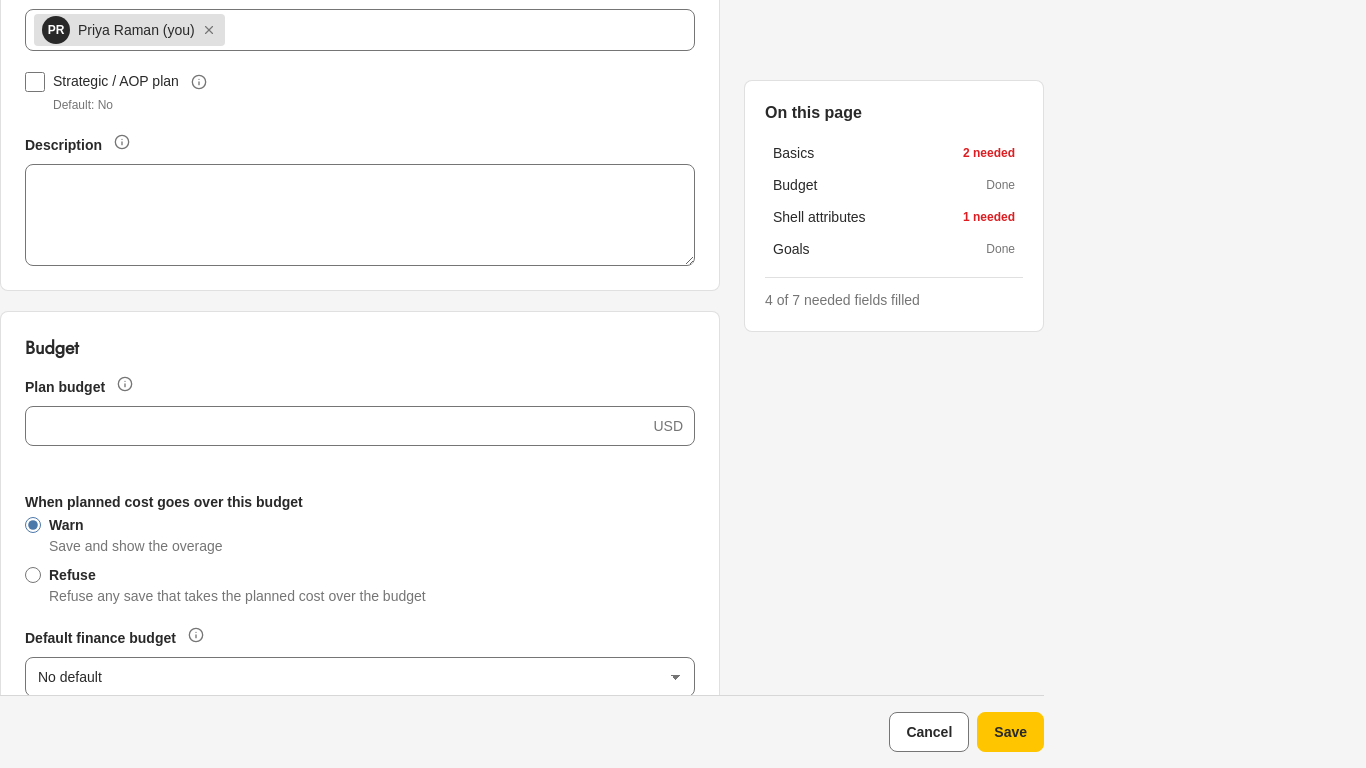
Test: 016 FR-047: the plan screens show the Field help of every labelled field › gives each field of the plan form one ⓘ, and none for an emptied text
This screenshot has width=1366, height=768.
(page scrolled)
Click the button named "About Plan budget".
click(125, 384)  # box [113, 372, 137, 396]
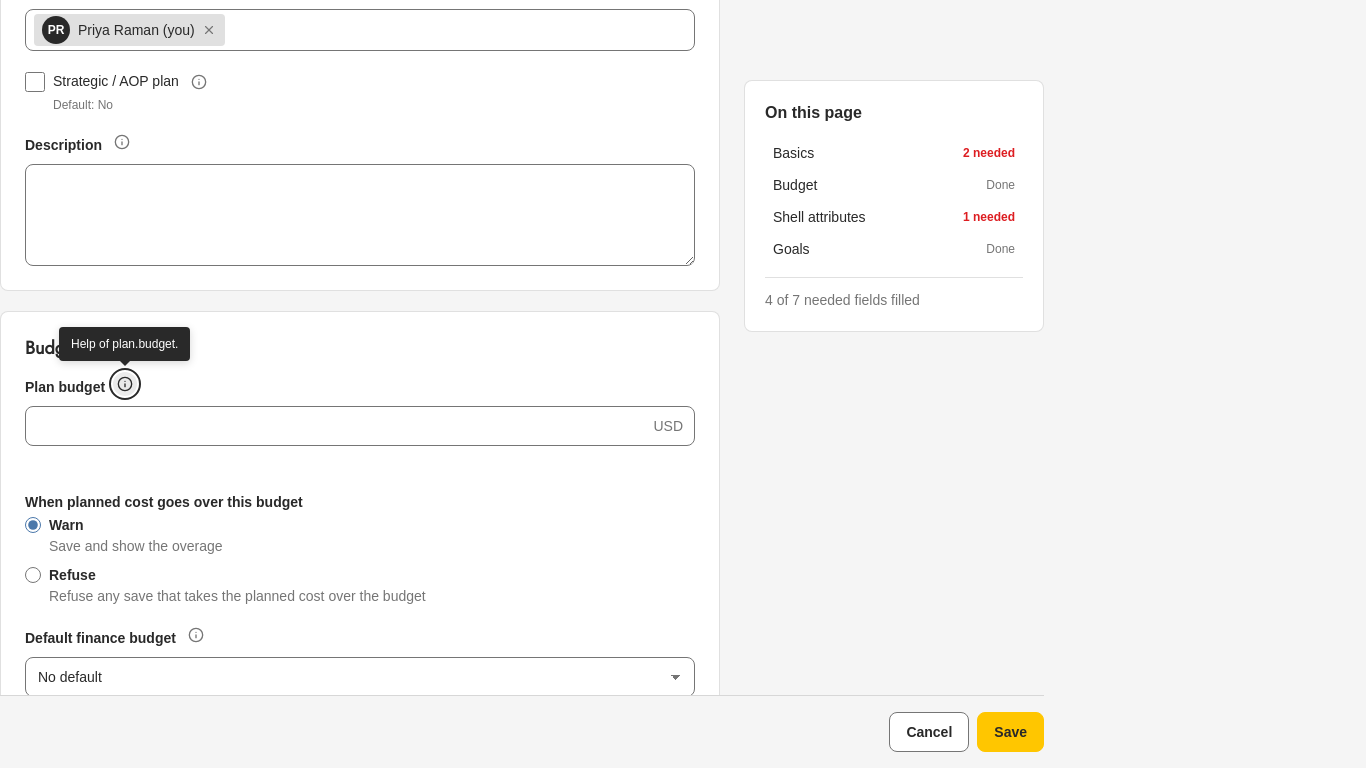
Check: the dialog named "About Plan budget" reads "Help of plan.budget.", box [71, 337, 178, 351]
